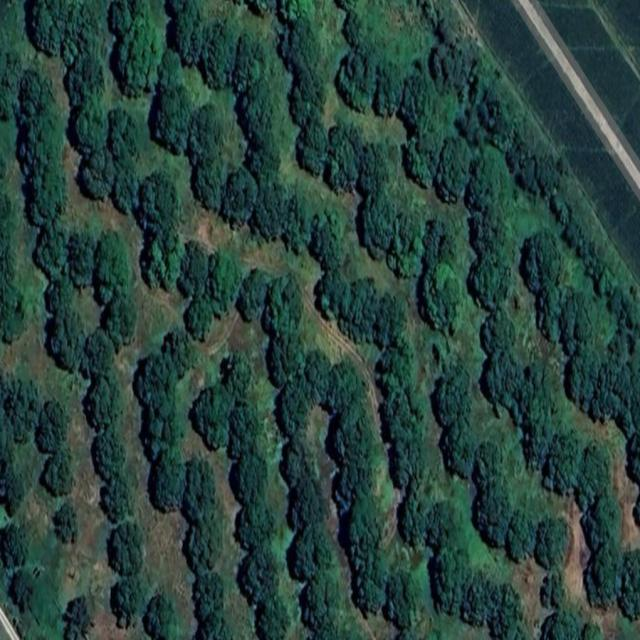Tree: (18, 71, 67, 229), (376, 342, 426, 493), (346, 486, 388, 622), (25, 0, 106, 68), (341, 277, 411, 351), (282, 14, 325, 129), (397, 67, 445, 168), (517, 362, 562, 468), (134, 356, 180, 458), (112, 9, 165, 97), (137, 169, 186, 257), (190, 96, 228, 209), (474, 438, 511, 553), (466, 145, 515, 223), (593, 360, 640, 436), (105, 121, 142, 216), (151, 81, 196, 152), (388, 200, 428, 278), (328, 404, 376, 467), (466, 209, 518, 267), (470, 250, 516, 314), (192, 382, 234, 451), (570, 438, 611, 508), (95, 222, 129, 306), (264, 268, 303, 340), (422, 265, 464, 331), (0, 374, 40, 443), (522, 229, 562, 298), (326, 354, 368, 419), (325, 119, 360, 197), (289, 520, 333, 582), (302, 571, 345, 634), (429, 546, 470, 611), (180, 454, 218, 524), (435, 136, 471, 209), (106, 516, 146, 580), (359, 189, 396, 258), (339, 49, 378, 114), (32, 216, 72, 279), (335, 457, 377, 517), (382, 564, 418, 634), (200, 22, 237, 90), (582, 496, 624, 554), (184, 512, 222, 576), (434, 364, 472, 428), (228, 29, 268, 88), (483, 349, 523, 408), (102, 290, 140, 352), (430, 37, 471, 94), (287, 469, 327, 527), (399, 484, 435, 548), (150, 452, 187, 514), (353, 137, 391, 197), (172, 4, 205, 72), (442, 414, 476, 480), (147, 234, 185, 292), (238, 550, 278, 605), (78, 144, 115, 203), (209, 252, 241, 320), (566, 346, 600, 410), (64, 53, 104, 107), (418, 215, 458, 269), (238, 79, 274, 138), (35, 398, 70, 458), (314, 267, 349, 327), (235, 499, 273, 554), (560, 293, 596, 351), (280, 191, 314, 252), (85, 376, 121, 433), (534, 514, 572, 568), (91, 427, 128, 482), (251, 178, 286, 236), (585, 554, 620, 612), (223, 172, 259, 228), (106, 104, 142, 160), (108, 575, 146, 628), (268, 332, 302, 391), (50, 310, 84, 369), (546, 431, 578, 492), (73, 94, 106, 153), (312, 209, 345, 268), (537, 283, 569, 343), (140, 590, 178, 640), (248, 121, 281, 178), (232, 454, 268, 506), (84, 325, 116, 383), (504, 505, 536, 563), (297, 122, 329, 180), (490, 590, 527, 640), (281, 429, 317, 480), (240, 266, 270, 326), (404, 132, 434, 192), (302, 349, 334, 405), (617, 547, 640, 624), (276, 382, 309, 434), (164, 324, 196, 376), (228, 397, 255, 458), (482, 307, 516, 355), (70, 228, 97, 288), (374, 61, 401, 121), (193, 568, 224, 620), (180, 240, 208, 297), (538, 602, 580, 640), (7, 560, 37, 613), (157, 46, 185, 102), (99, 474, 132, 520), (464, 572, 493, 624), (44, 271, 76, 318), (0, 518, 28, 571), (184, 292, 212, 344), (255, 599, 290, 640), (44, 450, 74, 496), (62, 592, 93, 636), (0, 474, 28, 518), (429, 505, 454, 554), (52, 501, 79, 544), (228, 351, 252, 399), (194, 608, 230, 640), (542, 562, 567, 605), (606, 324, 629, 366), (108, 0, 133, 38), (625, 432, 640, 478)
